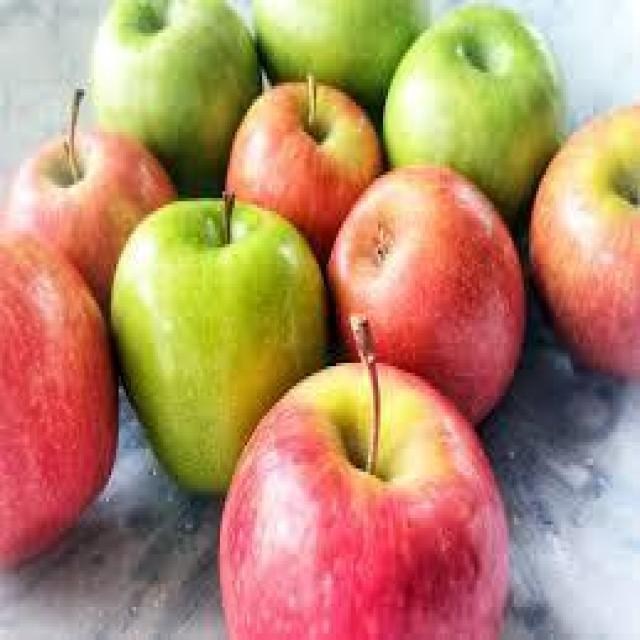maca: (215, 316, 511, 636), (0, 224, 119, 571)
